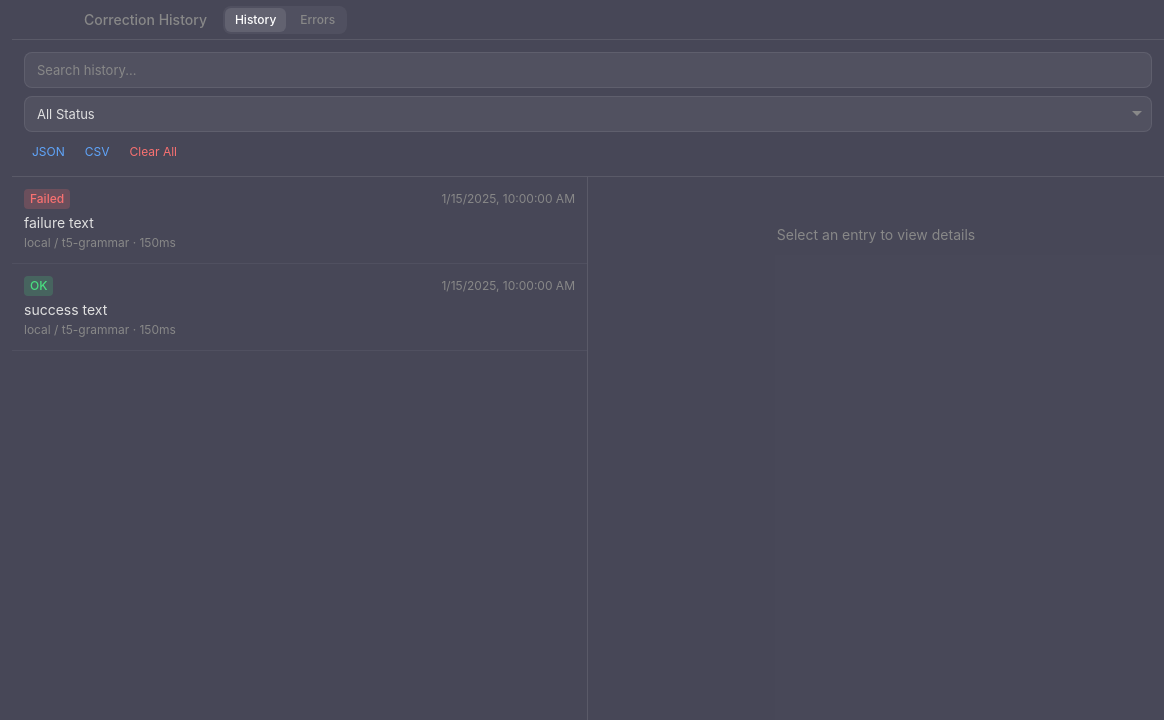
History › status dropdown filters to succeeded-only
This screenshot has width=1164, height=720.
expect the text "success text" is shown: met, box [24,301,107,318]
Select "Succeeded" in the dropdown showing "All Status" at x=588, y=114, box [24,96,1152,132]
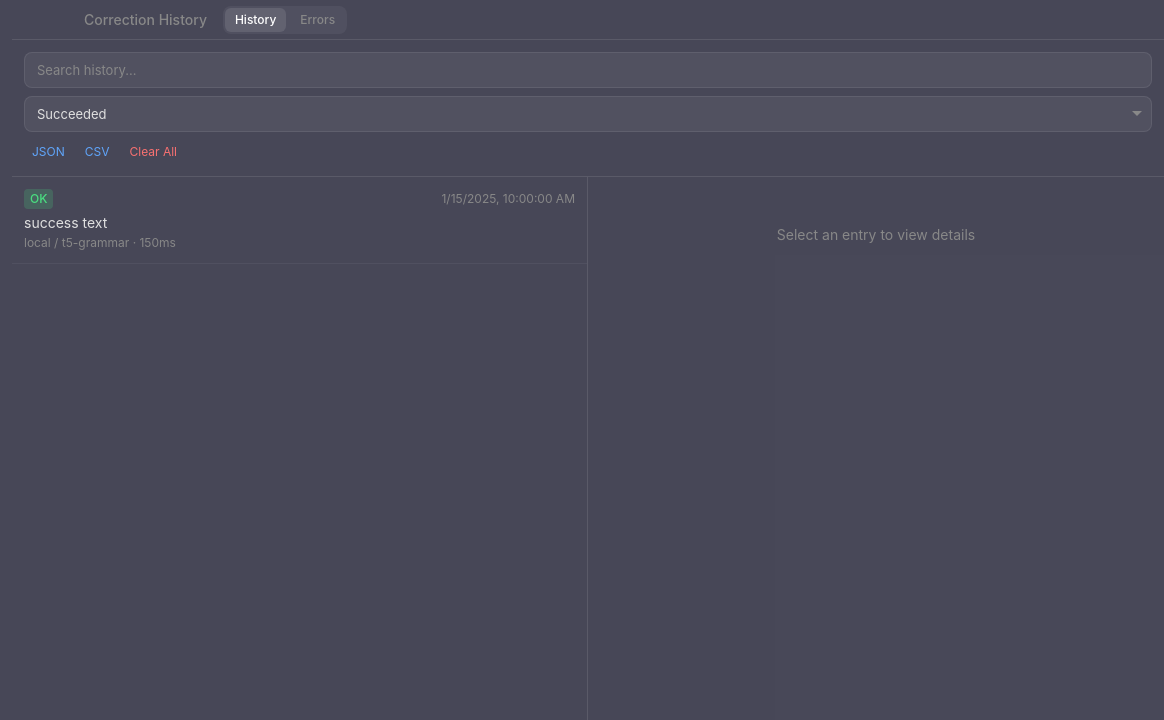
expect the text "success text" is shown: met, box [24,214,107,231]
expect the button "failure text" is gone: met
